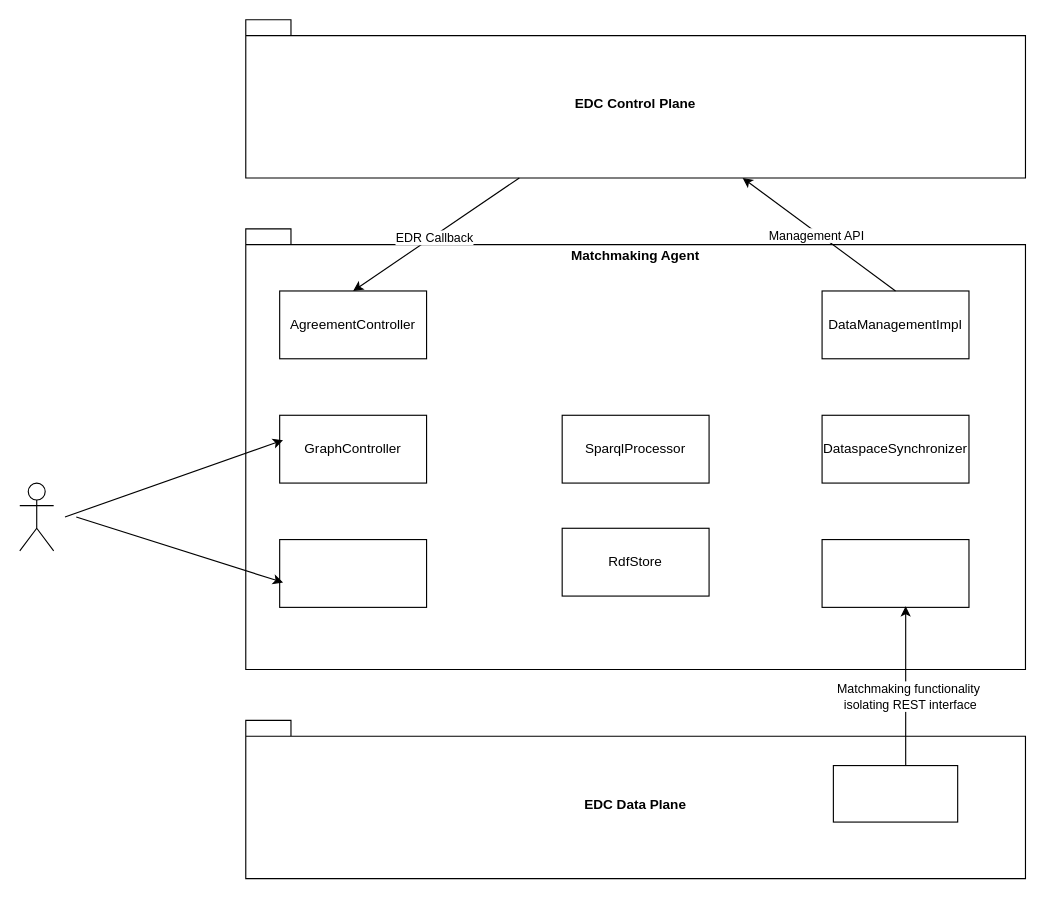
This 1045x898 diagram has some shape labels left out. The shapes that lost their labels are listed below. From the top down, each one's centre as x and y in pixels, then its label:
(x=36, y=516): Actor
(x=353, y=572): AgentController
(x=895, y=572): AgentSourceController
(x=895, y=793): AgentSource
